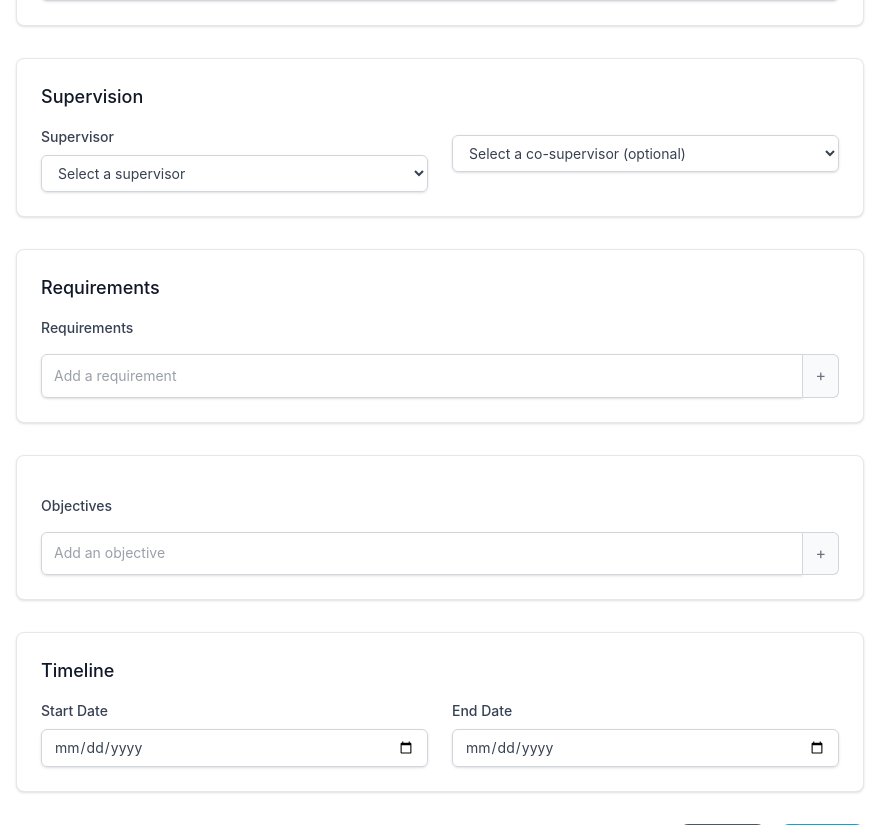
Scenario: ProjectForm.vue › adds a requirement
(page scrolled)
In the field with placeholder "Add a requirement": x=422, y=376 [41,354,803,398], type "Vue 3"
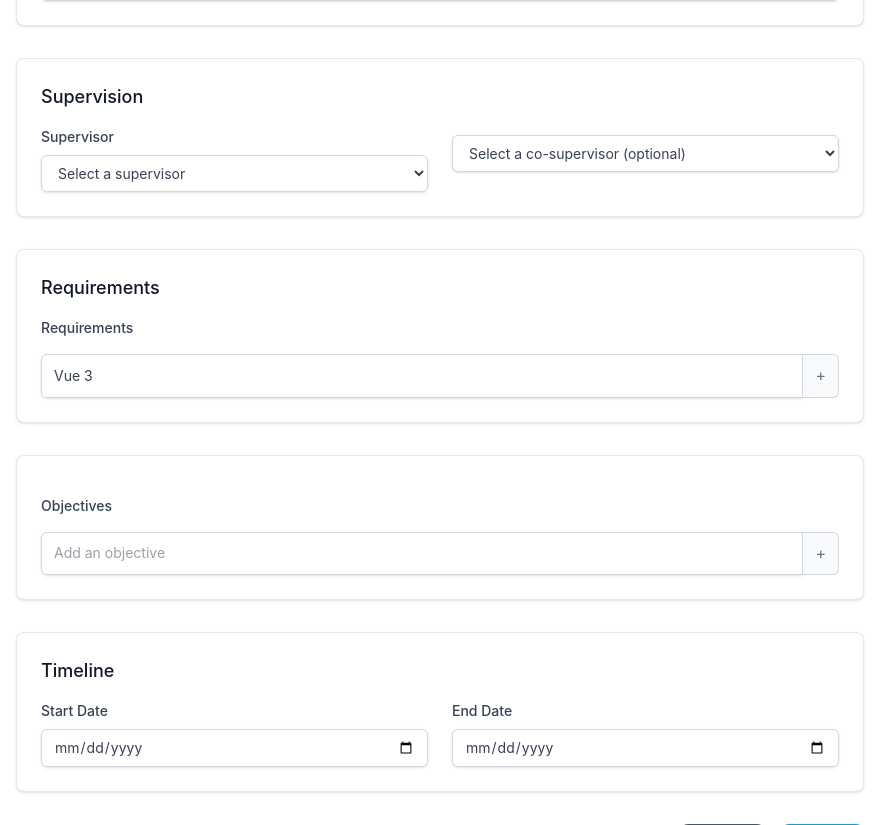
Press Enter in the field with placeholder "Add a requirement", box [41,354,803,398]
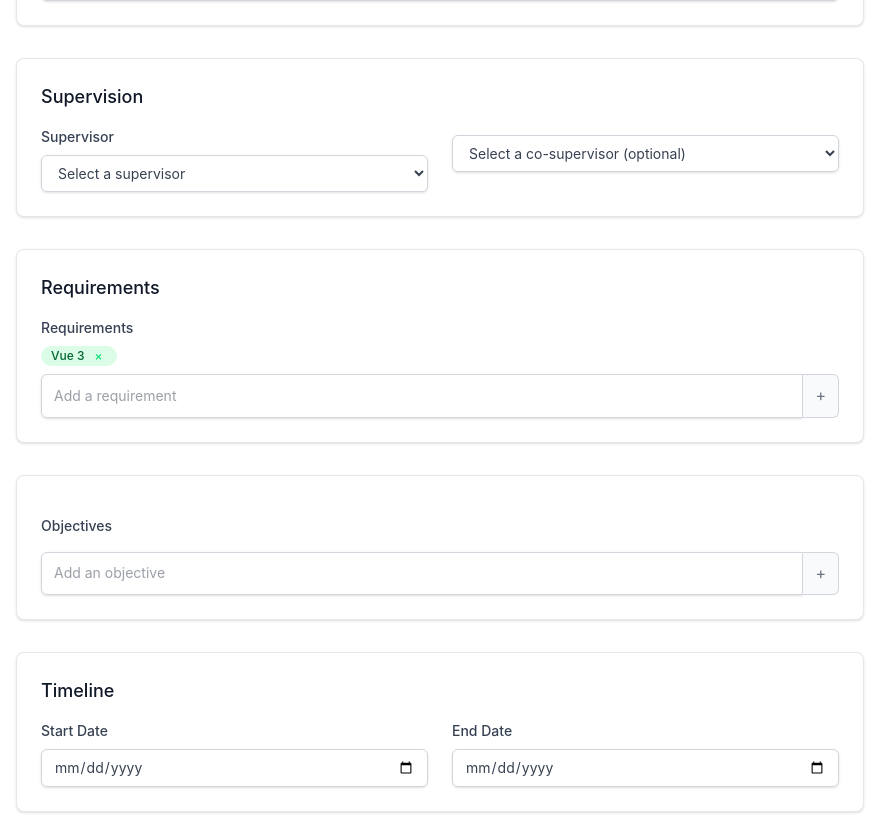
Now the text "Vue 3" is shown, box [51,348,84,363]
